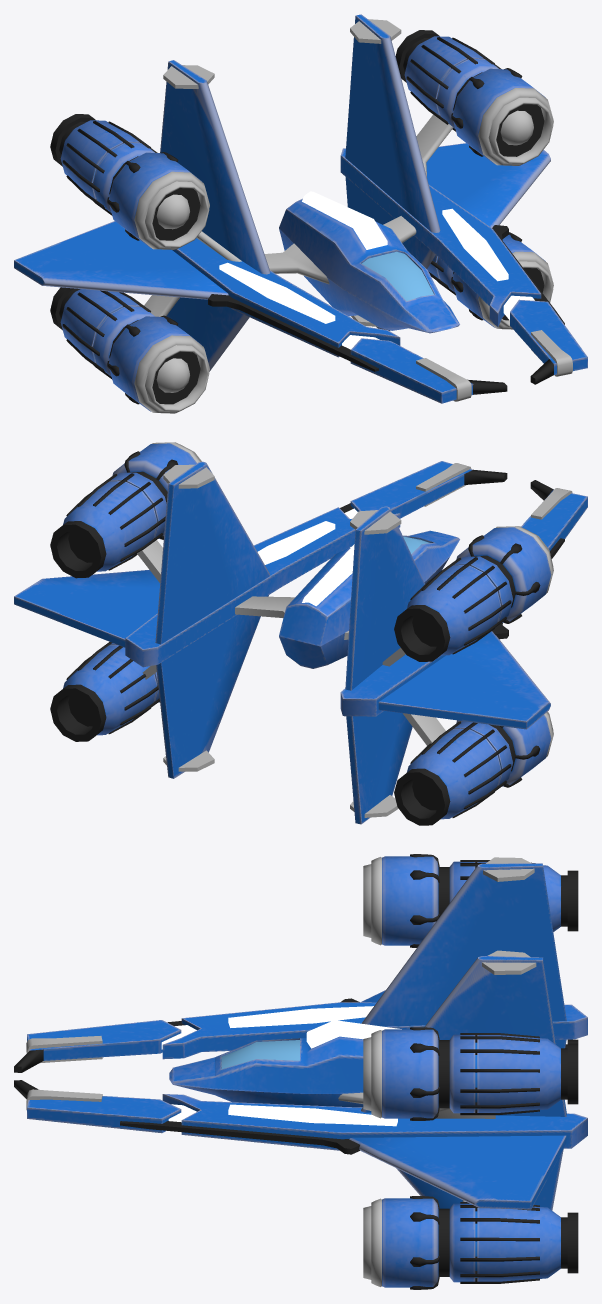
Rendered from Enemy3.fbx.
3 renders of one model, top to bottom at view 1: azimuth 30°, elevation 25°; view 2: azimuth 150°, elevation 25°; view 3: azimuth 270°, elevation 25°, orthographic. The views are drawn at different scales.
Parts seen in each view (by area): view 1: Enemy3; view 2: Enemy3; view 3: Enemy3.
Boxes of the visible parts, x1,y1,x2,y2 form: Enemy3: (14,14,587,413); Enemy3: (14,442,587,825); Enemy3: (14,854,587,1289).
Size of the model in its own units: 258 by 141 by 242.
